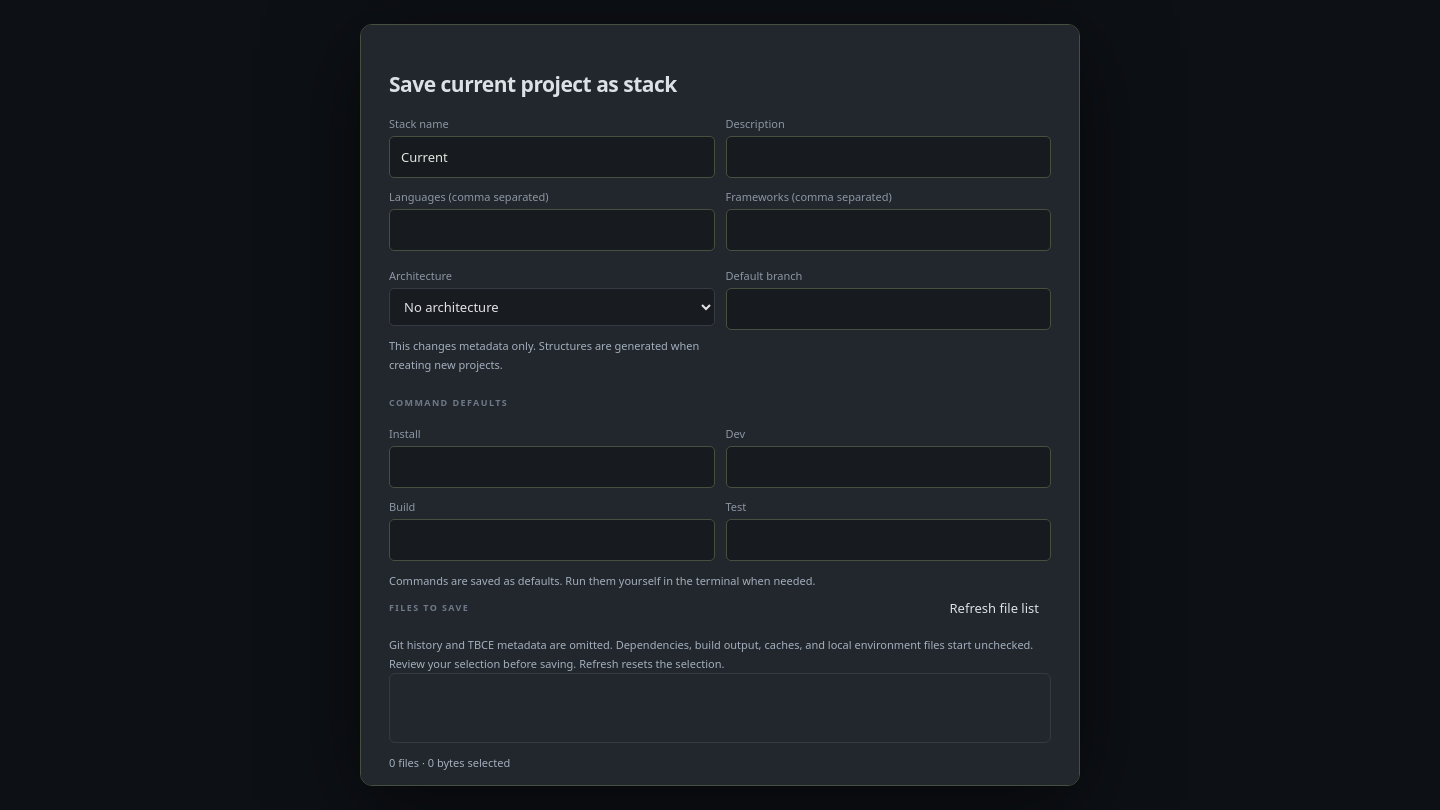
it: inspection failure blocks saving and refresh recovers
The width and height of the screenshot is (1440, 810).
Step 1. Click the button "Refresh file list" → [994, 608], box [938,591,1051,625]
(page scrolled)
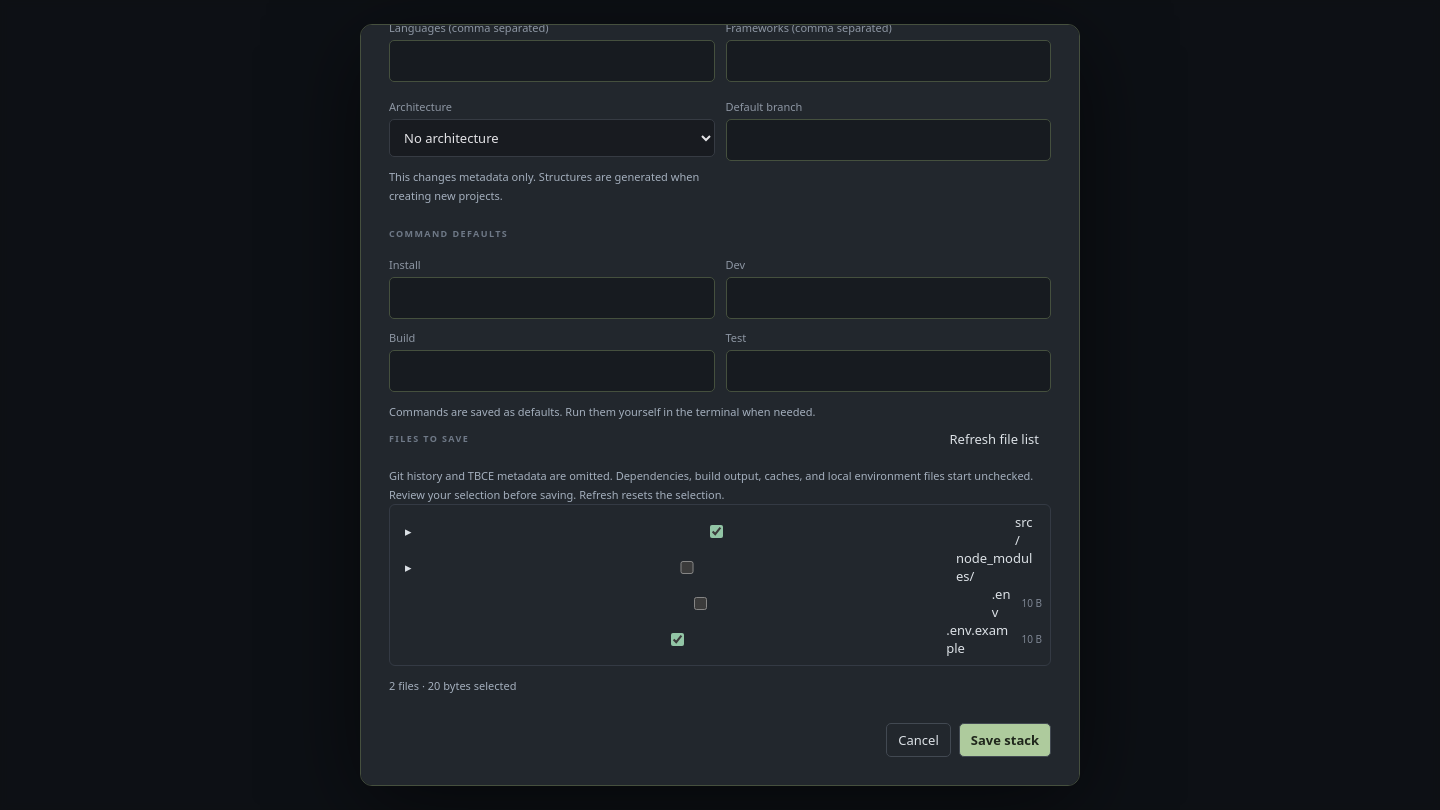
Now the button "Save stack" is enabled, box [959,723,1051,757]
